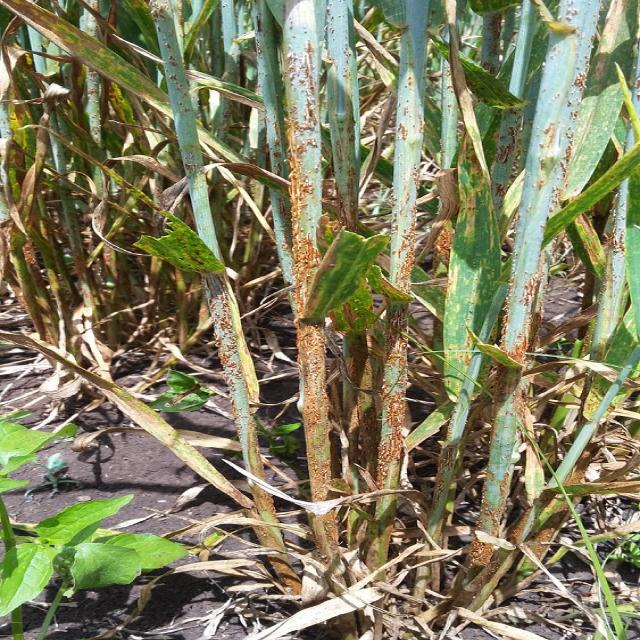wheat-stemrust: (495, 27, 607, 358), (279, 39, 331, 493), (151, 25, 211, 227)
